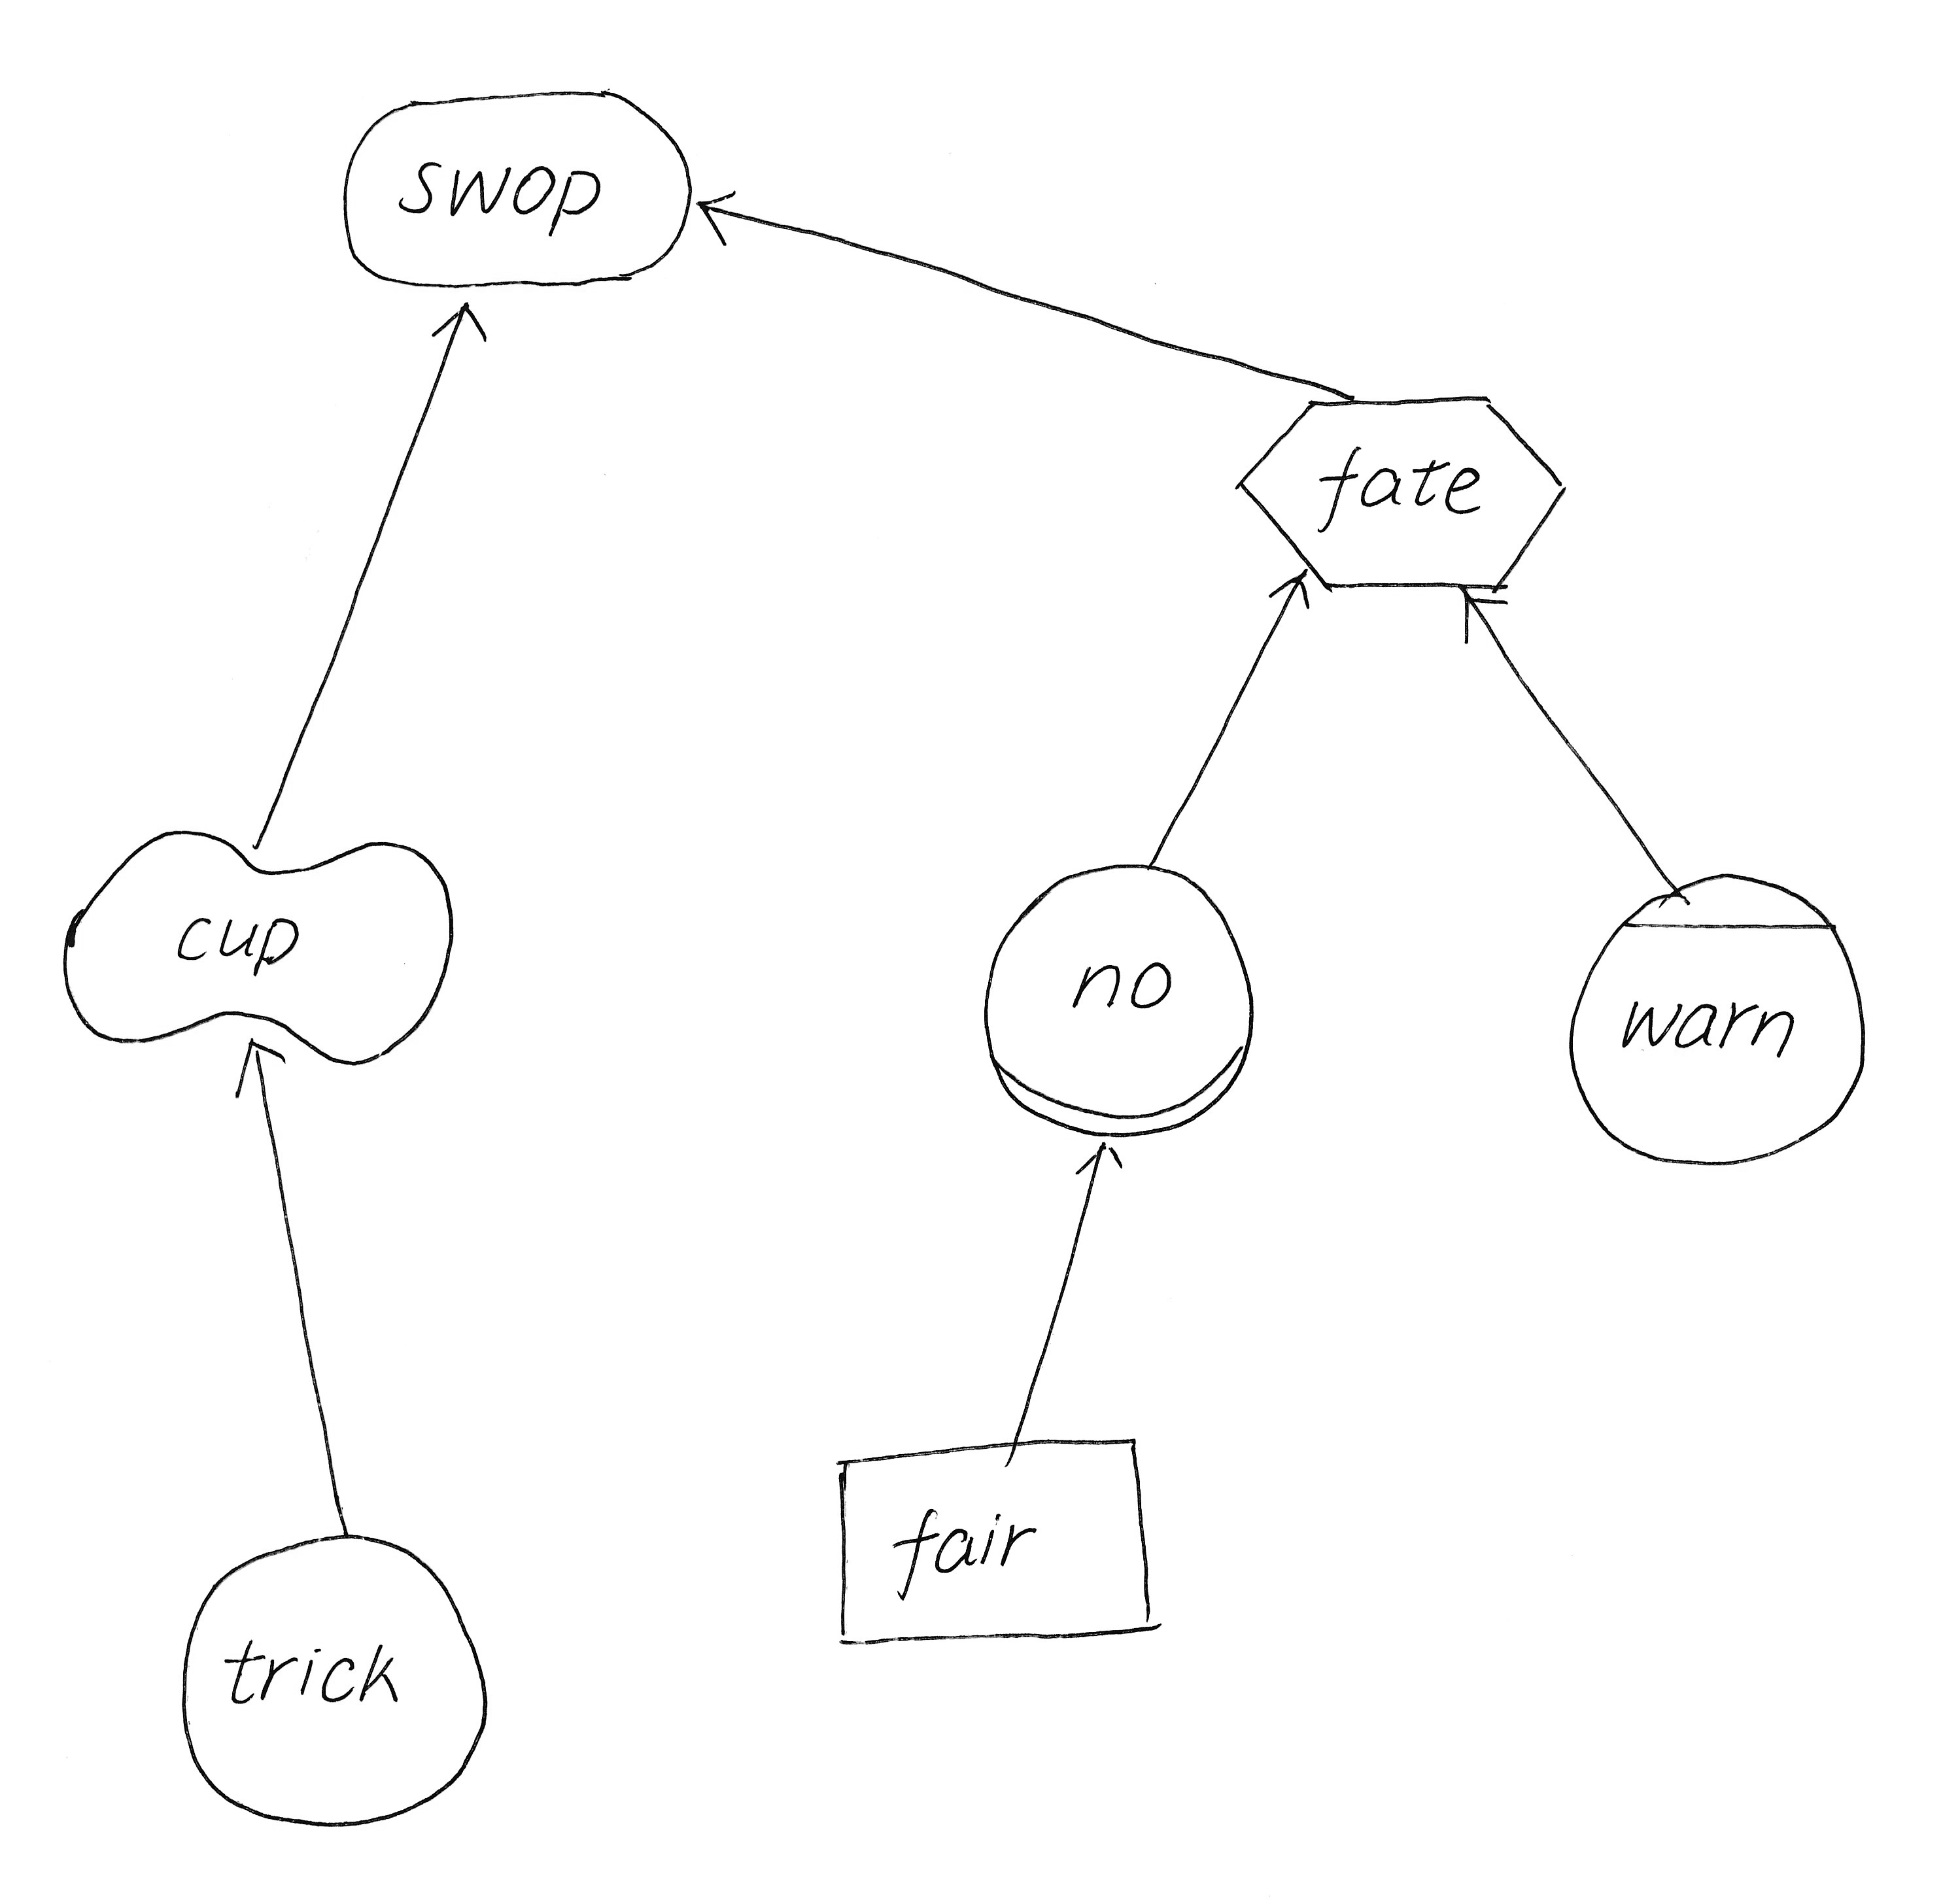actor: (164, 1513, 513, 1841)
agent: (1545, 854, 1885, 1179)
arrow: (220, 1025, 295, 1109), (1449, 570, 1528, 645), (419, 293, 499, 359), (691, 174, 750, 262), (1059, 1130, 1141, 1191), (1258, 563, 1326, 619)
goal: (323, 73, 719, 312)
quality: (44, 813, 478, 1081)
resource: (816, 1425, 1188, 1667)
role: (965, 846, 1277, 1151)
task: (1221, 375, 1584, 619)
